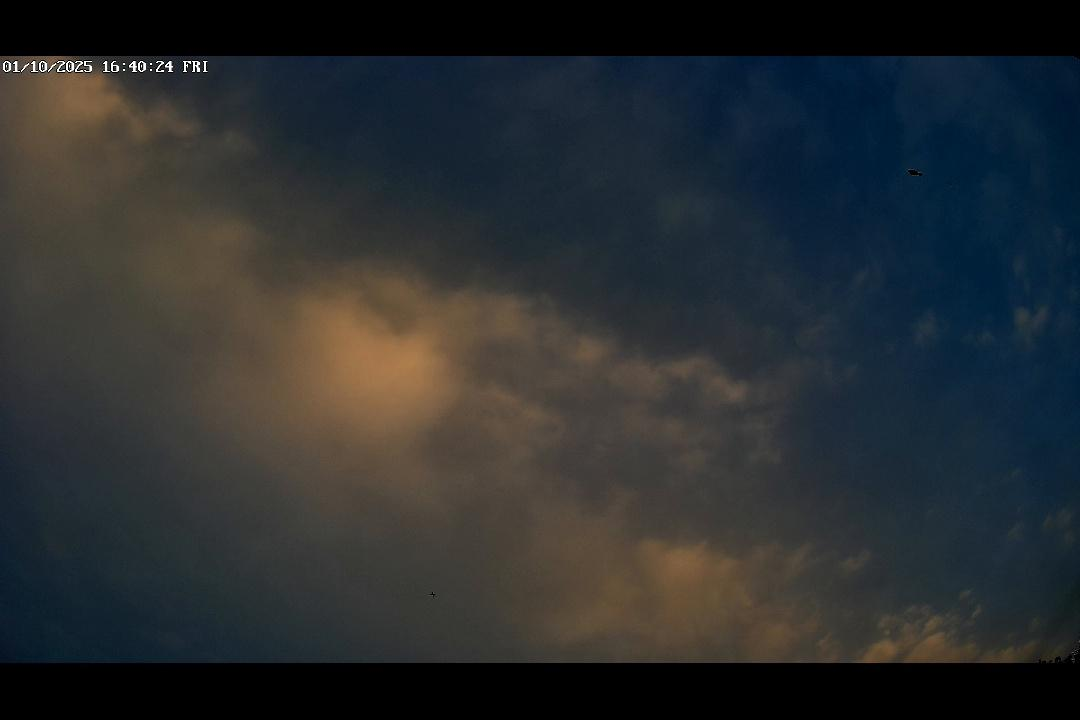Plane: (427, 591, 437, 601)
WildLife: (900, 166, 927, 177)
